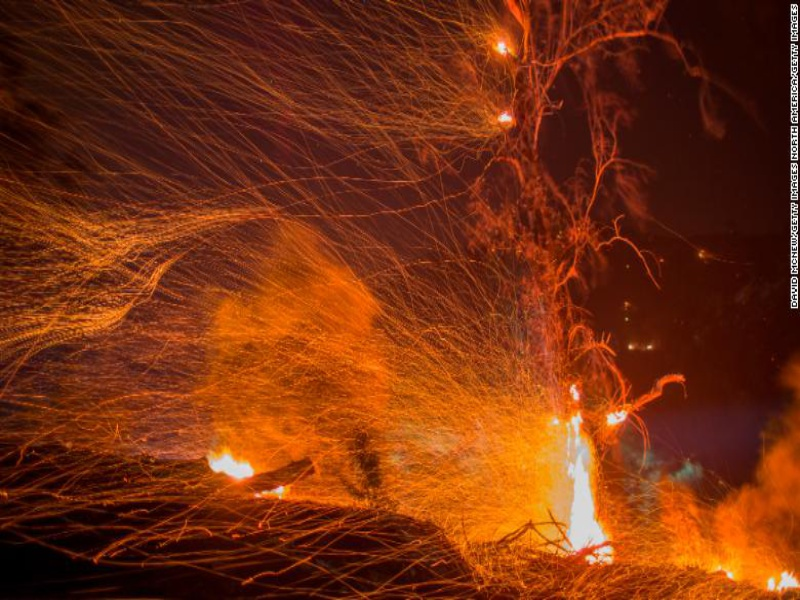fire: (535, 414, 635, 569), (202, 445, 260, 480), (763, 555, 800, 592)
